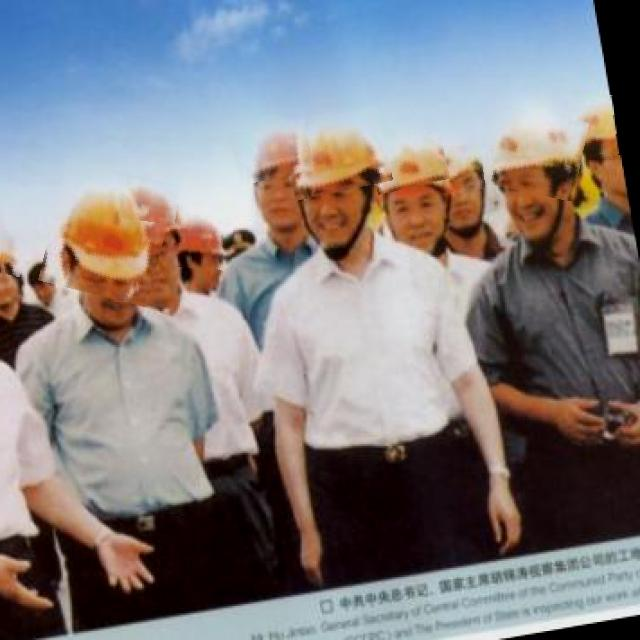helmet: (44, 164, 170, 302), (283, 111, 389, 197), (484, 108, 586, 197), (232, 123, 312, 182), (370, 136, 448, 192), (168, 206, 233, 270), (572, 94, 640, 154), (120, 178, 179, 223), (431, 145, 484, 193), (0, 234, 28, 276)
